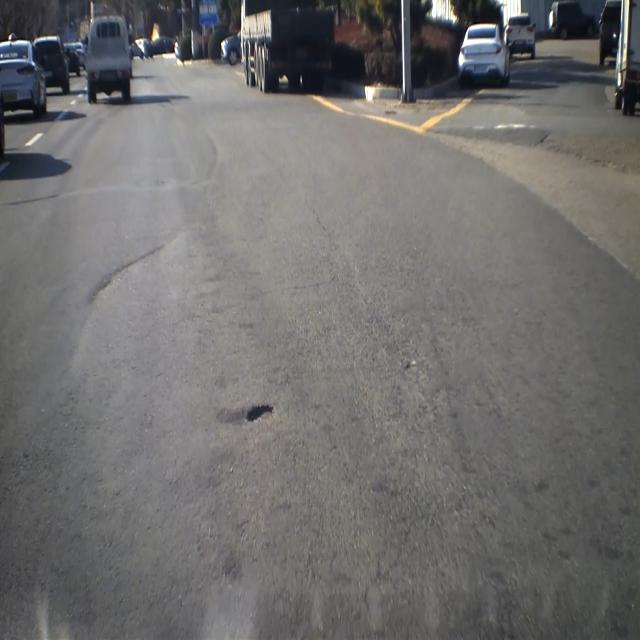Pothole: (239, 390, 279, 435)
